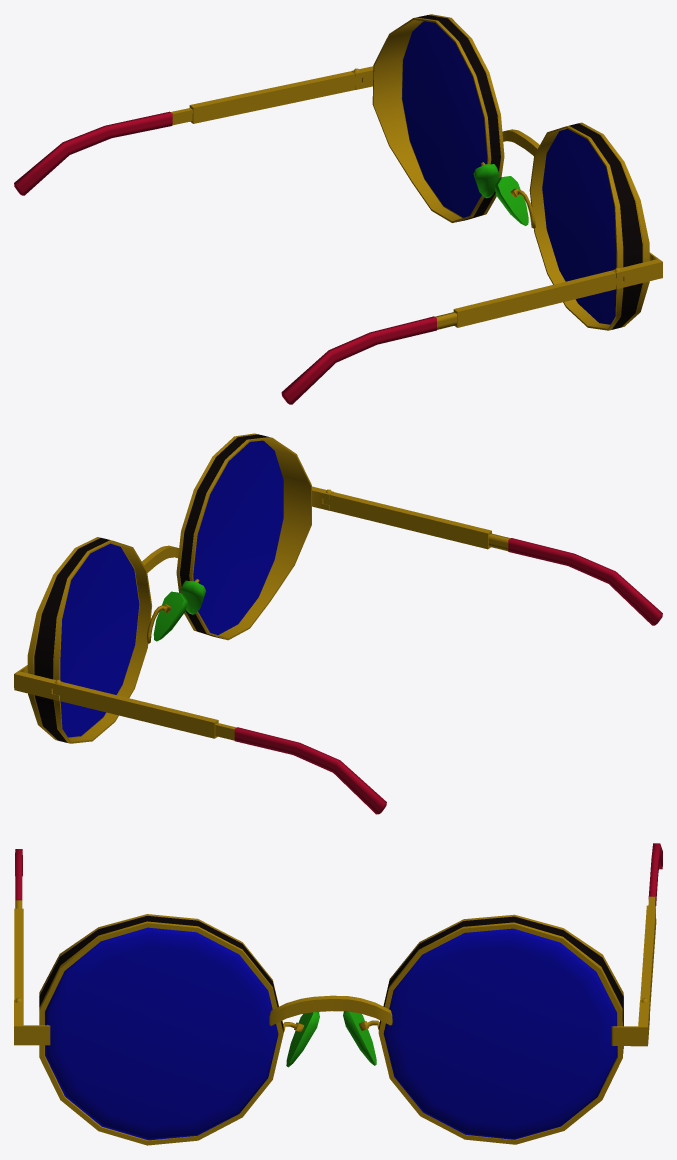
The picture shows the model from 3 angles, top to bottom: view 1: azimuth 30°, elevation 25°; view 2: azimuth 150°, elevation 25°; view 3: azimuth 270°, elevation 25°; orthographic projection. The views are drawn at different scales.
Parts seen in each view (by area): view 1: Cube.000 (×5); view 2: Cube.000 (×5); view 3: Cube.000 (×5).
Part boxes in pixels (x1,y1,x2,y2): Cube.000 (×5): (14,14,662,404); Cube.000 (×5): (14,433,662,814); Cube.000 (×5): (14,843,662,1145).
Bounding box in the file's own units: 1.61 × 0.762 × 2.
